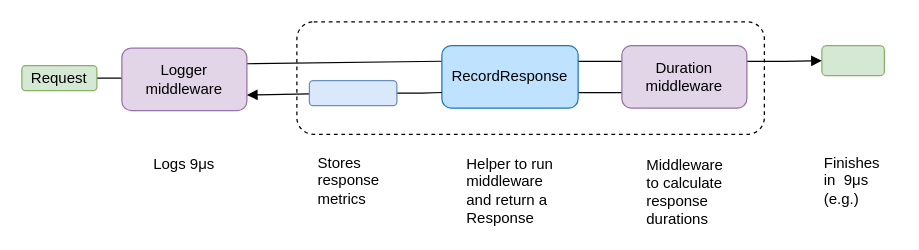
Some shapes in this 919 by 250 pixel diagram are drawn without their labels. Here are the shapes that lost their labels. From the top down, the centre of each, then its label:
At [852,60]: "Handler".
At [352,92]: "Response".
